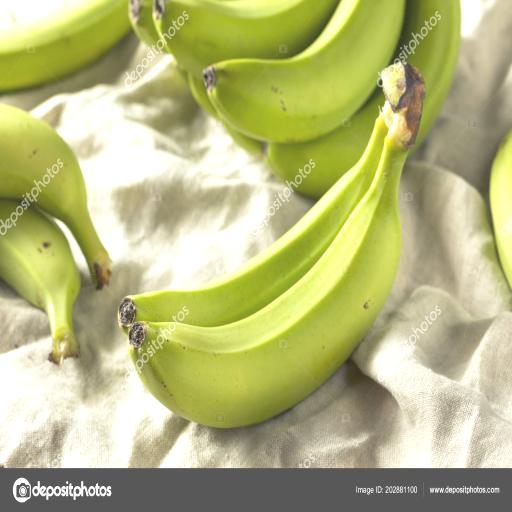banana-unripe: (89, 97, 442, 458)
